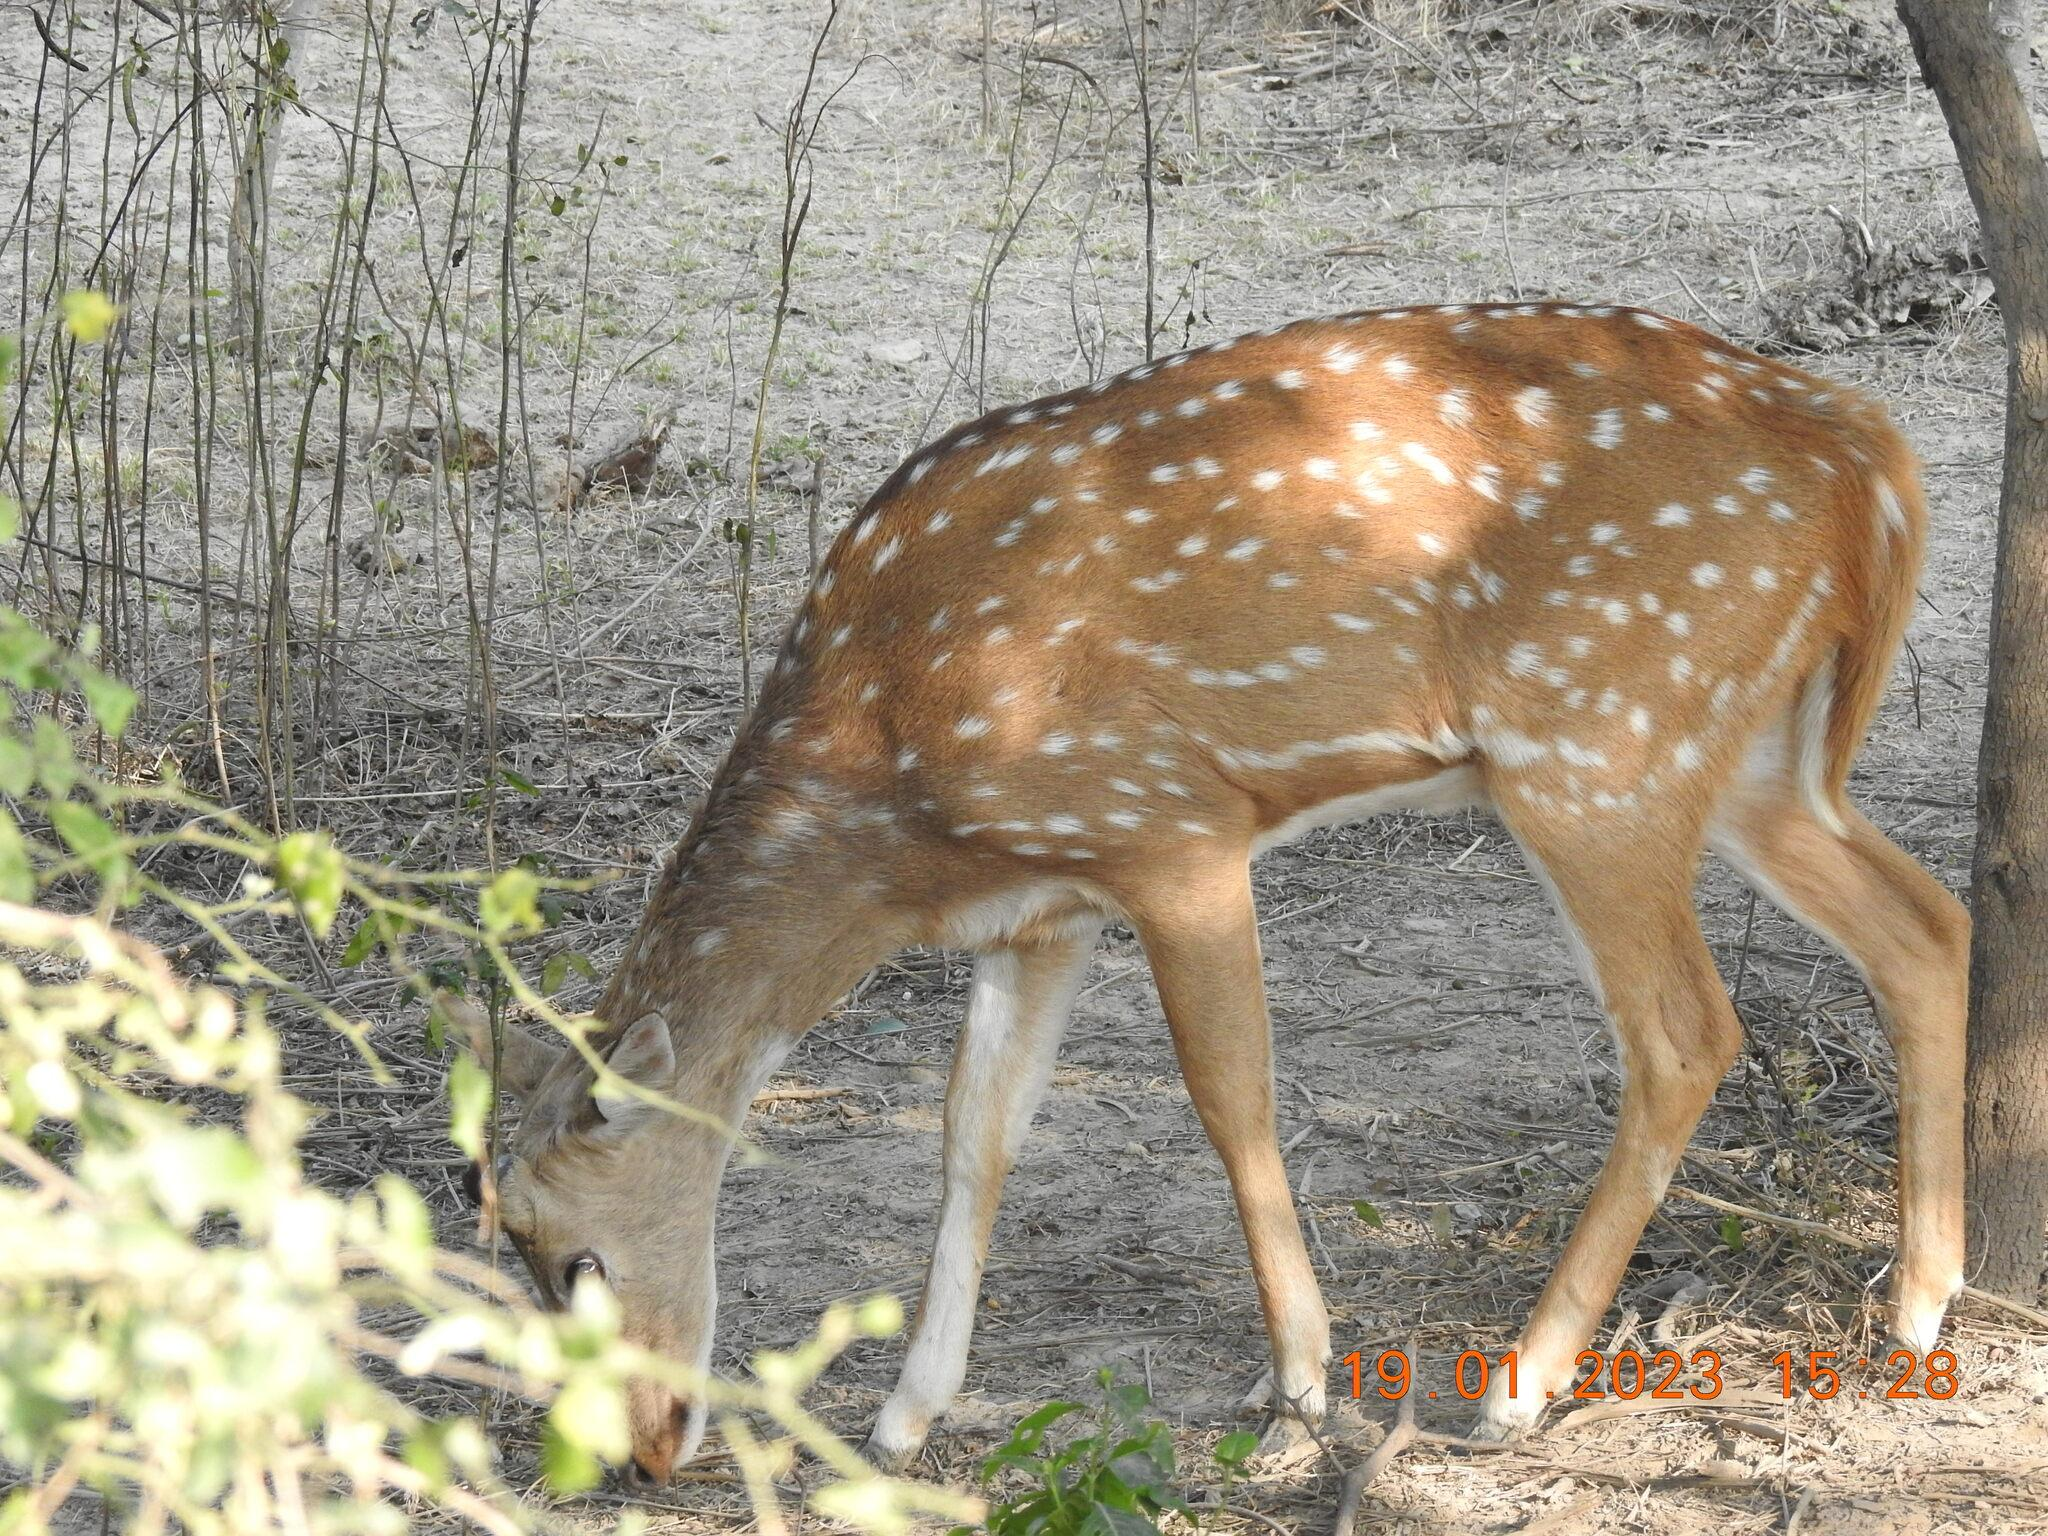Deer: (450, 302, 1971, 1460)
